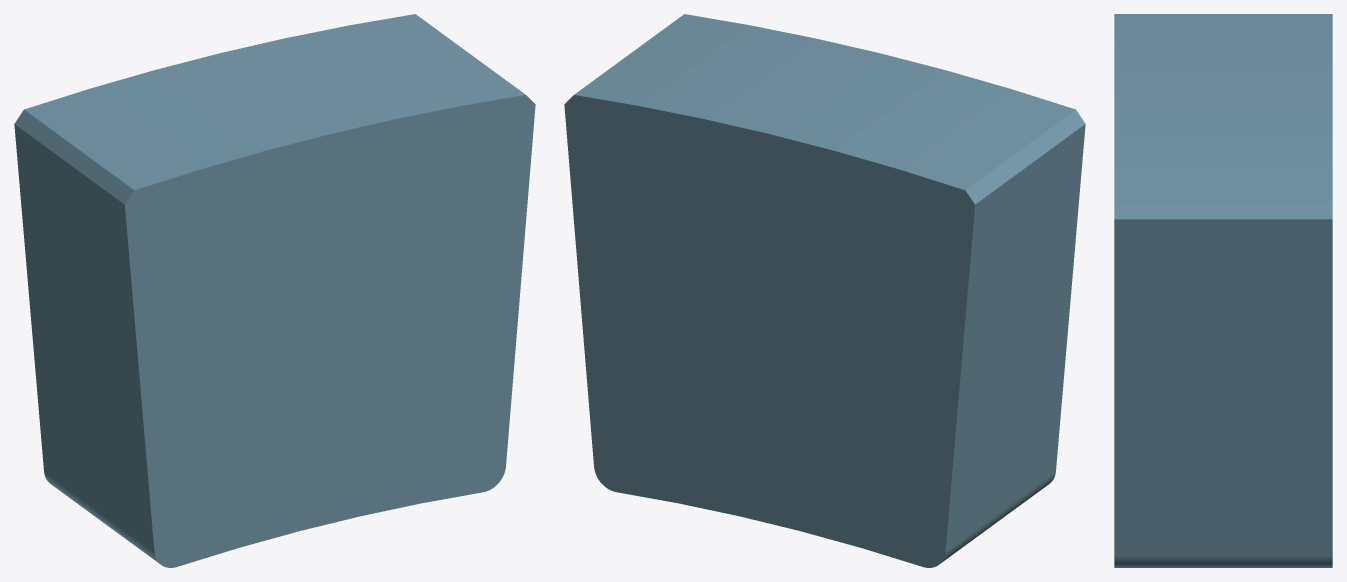
The model's file is comb-tooth-unit.glb.
3 views of the same model, side by side, from view 1: azimuth 30°, elevation 25°; view 2: azimuth 150°, elevation 25°; view 3: azimuth 270°, elevation 25° (orthographic).
Visible parts, largest first — view 1: comb-tooth-unit; view 2: comb-tooth-unit; view 3: comb-tooth-unit.
Boxes of the visible parts, <box> form: comb-tooth-unit: <box>14,14,535,567</box>; comb-tooth-unit: <box>564,14,1085,567</box>; comb-tooth-unit: <box>1114,14,1332,567</box>.
Size of the model in its own units: 38.65 by 35.56 by 18.
